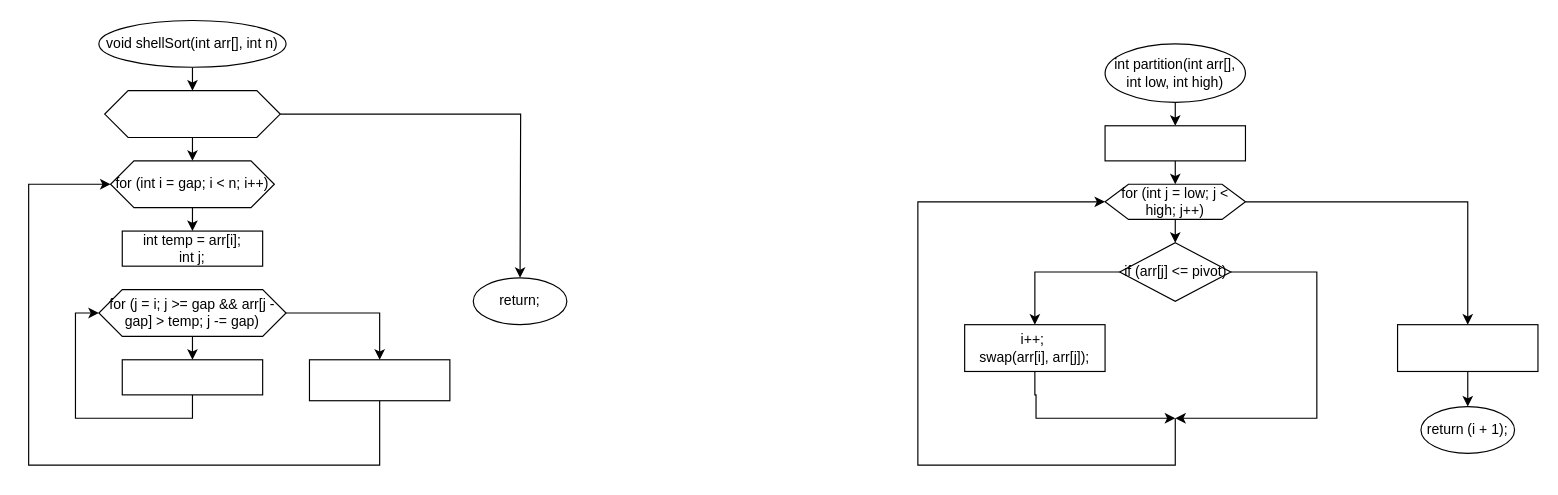
The diagram is 1558 pixels wide and 495 high, and some of its shapes have lost their labels. The shapes that lost their labels are listed below. From the top down, each one's centre as x and y in pixels, then its label:
At pixel 192 113: "for (int gap = n / 2; gap > 0; gap /= 2)".
At pixel 1174 143: "int pivot = arr[high]; int i = (low - 1);".
At pixel 1467 347: "swap(arr[i + 1], arr[high]);".
At pixel 192 377: "arr[j] = arr[j - gap];".
At pixel 379 380: "arr[j] = temp;".
